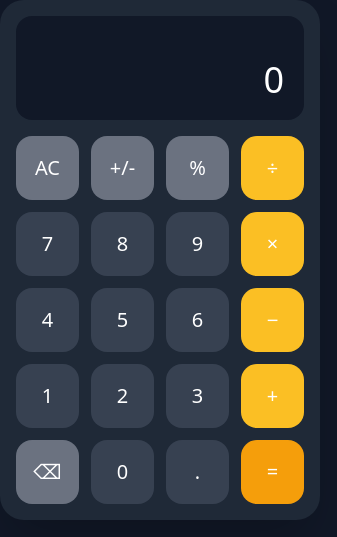
Test: Calculator – digit input › appends multiple digits
This screenshot has width=337, height=537.
Click the button "1". click: (48, 396)
box: left=16, top=364, right=79, bottom=428
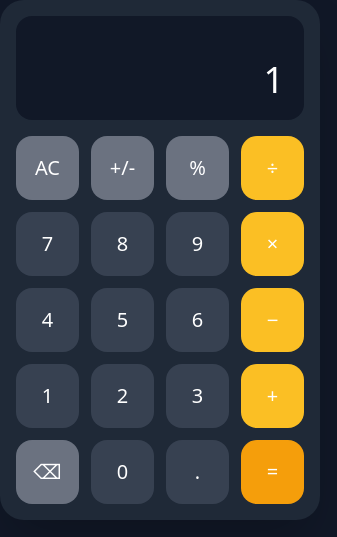
Click the button "2". click: (122, 396)
box: left=91, top=364, right=154, bottom=428
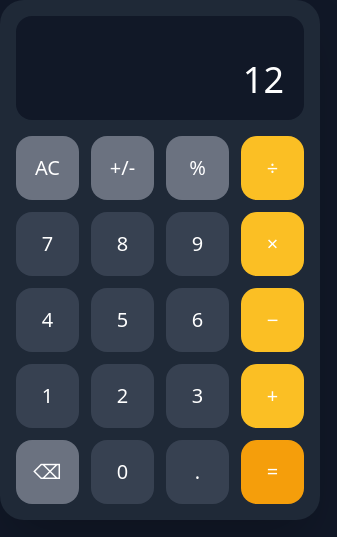
Click the button "3". click: (198, 396)
box: left=166, top=364, right=229, bottom=428
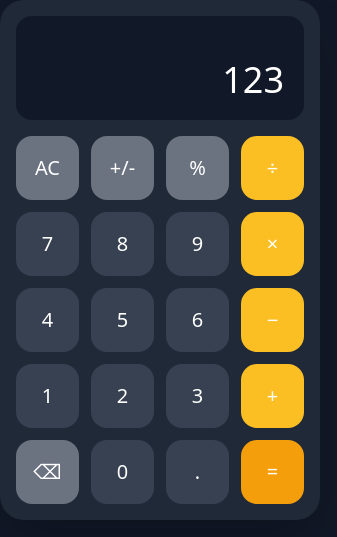
Expected: the text "123" is shown, left=222, top=55, right=284, bottom=104
